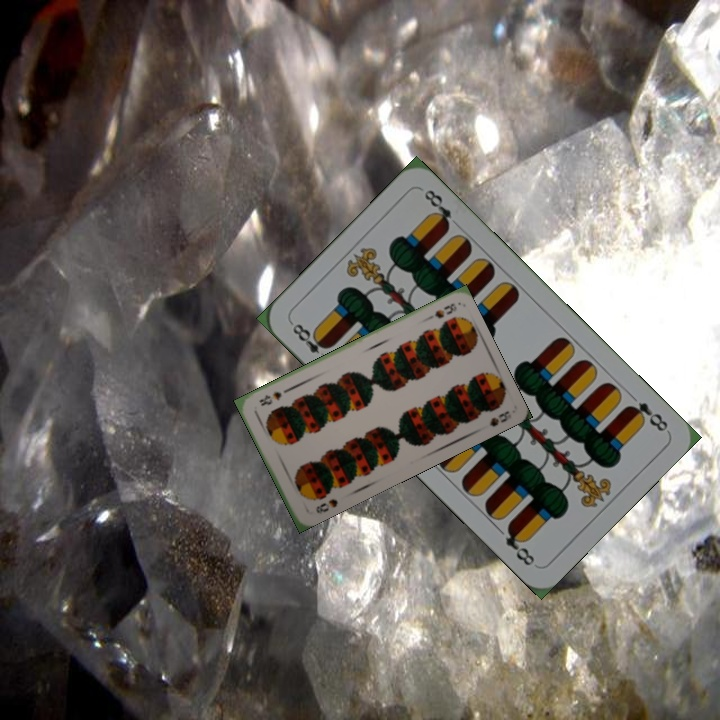E8: (287, 318, 333, 365), (622, 398, 671, 435)
S8: (420, 299, 459, 324), (312, 495, 340, 517)
